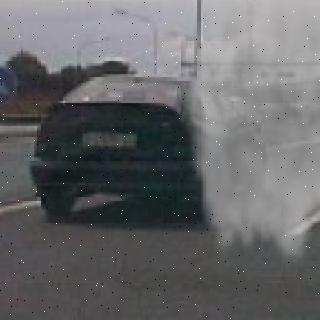smoke: (178, 0, 320, 296)
